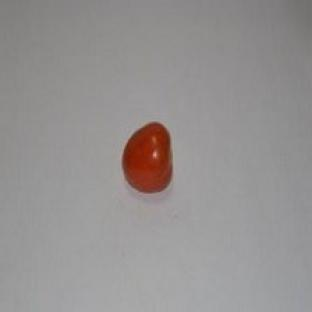Tomato: (123, 123, 172, 192)
